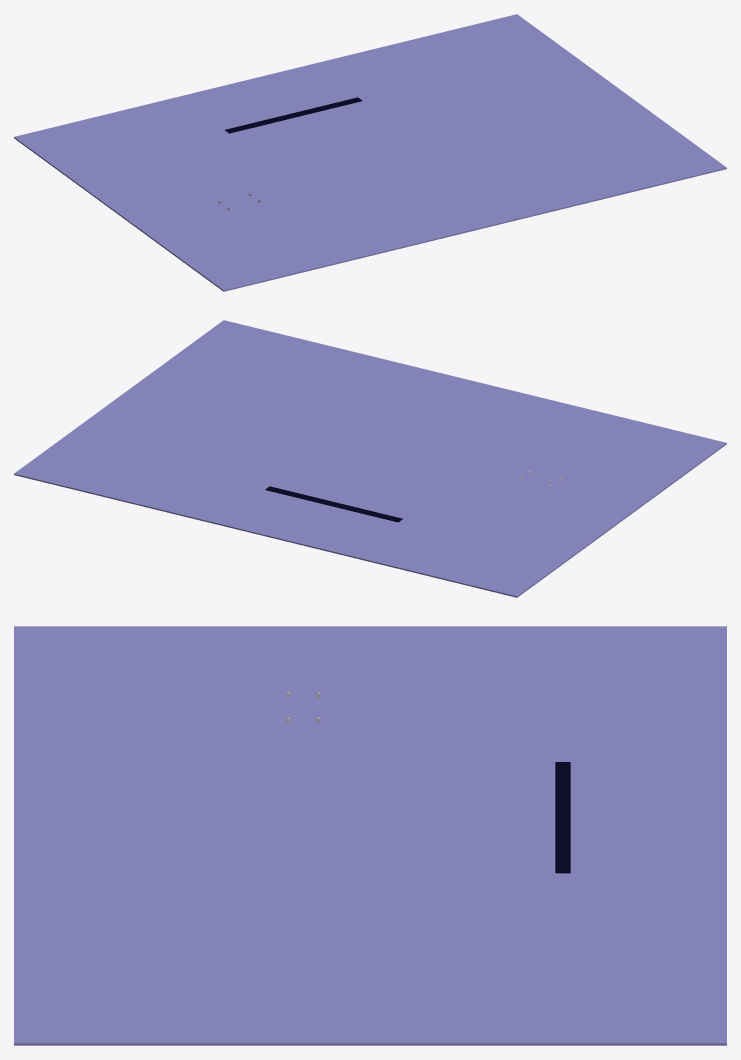
The model's file is Piso.obj.
3 views of the same model, one above another, from view 1: azimuth 30°, elevation 25°; view 2: azimuth 150°, elevation 25°; view 3: azimuth 270°, elevation 25° (orthographic). The views are drawn at different scales.
Parts seen in each view (by area): view 1: Plane.215_Plane.229, Plane.211_Plane.225; view 2: Plane.215_Plane.229, Plane.211_Plane.225; view 3: Plane.215_Plane.229, Plane.211_Plane.225.
Boxes of the visible parts, x1,y1,x2,y2 form: Plane.215_Plane.229: (14,14,726,291); Plane.211_Plane.225: (225,97,362,133); Plane.215_Plane.229: (14,320,726,597); Plane.211_Plane.225: (265,486,402,522); Plane.215_Plane.229: (14,626,726,1045); Plane.211_Plane.225: (555,762,570,873).
Size of the model in its own units: 36 by 0.283 by 26.
